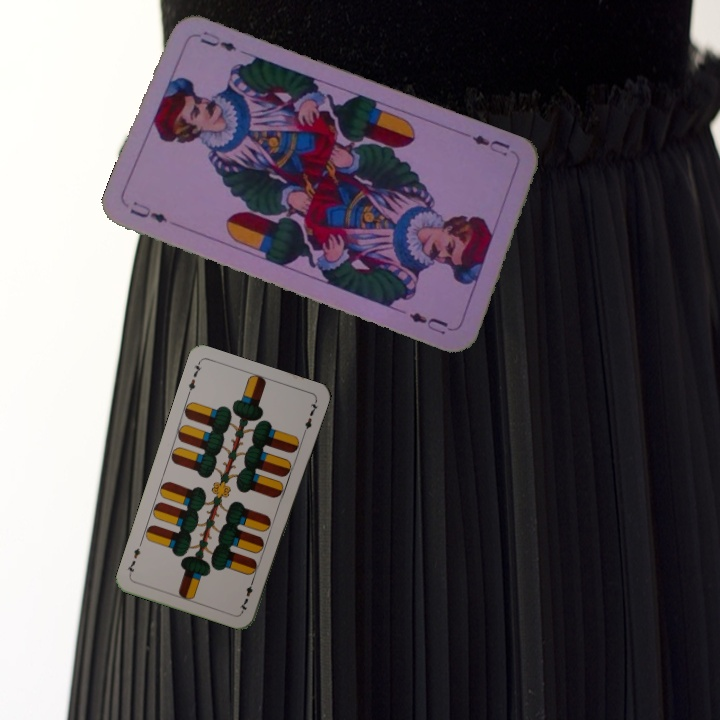E7: (236, 575, 257, 614), (184, 358, 204, 398)
EU: (125, 197, 171, 226), (468, 131, 512, 159)
